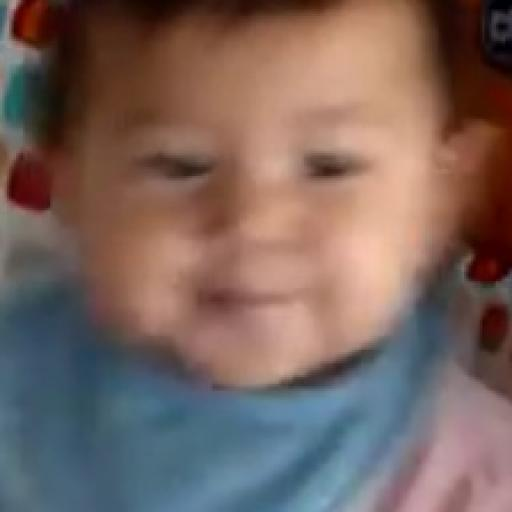Autism: (40, 4, 512, 469)
